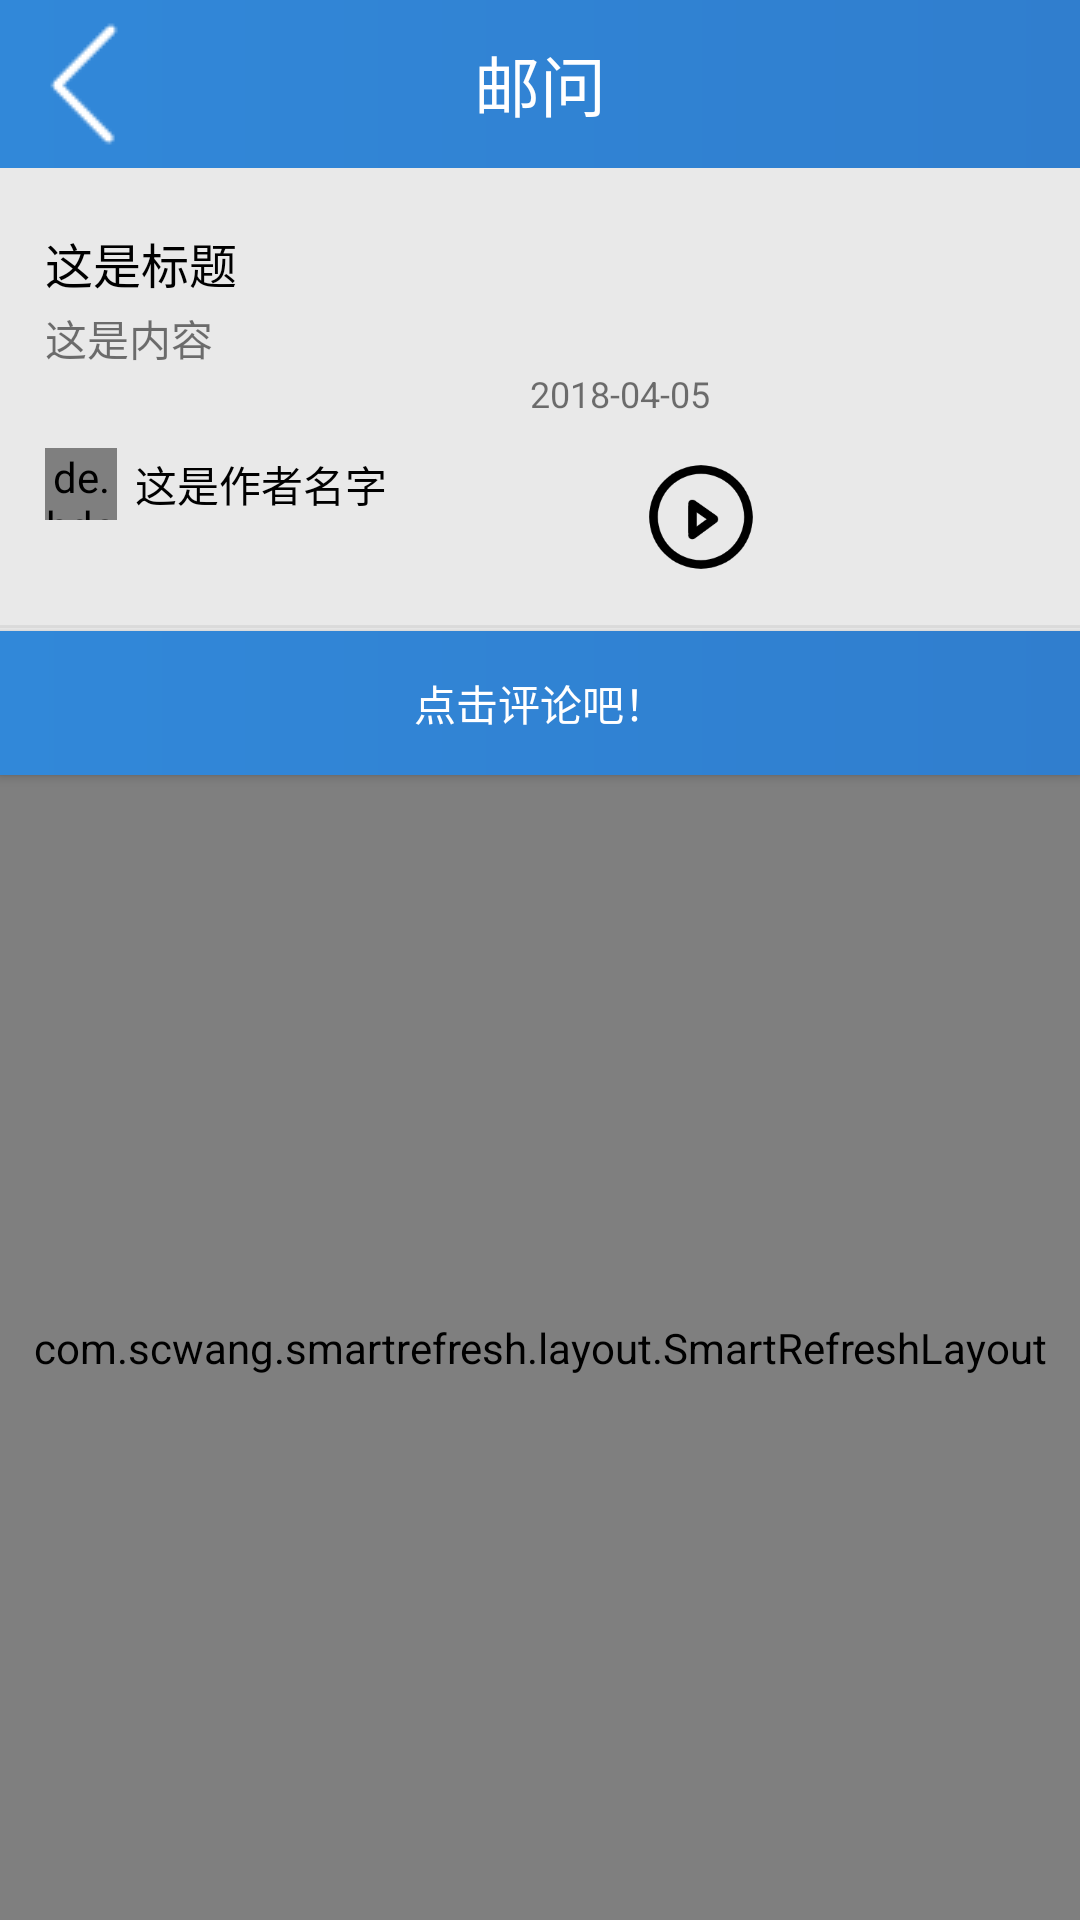

Icon click points for this 1080w x 1920h phone screenshot, format [x,y]:
summer play: [701,517]
